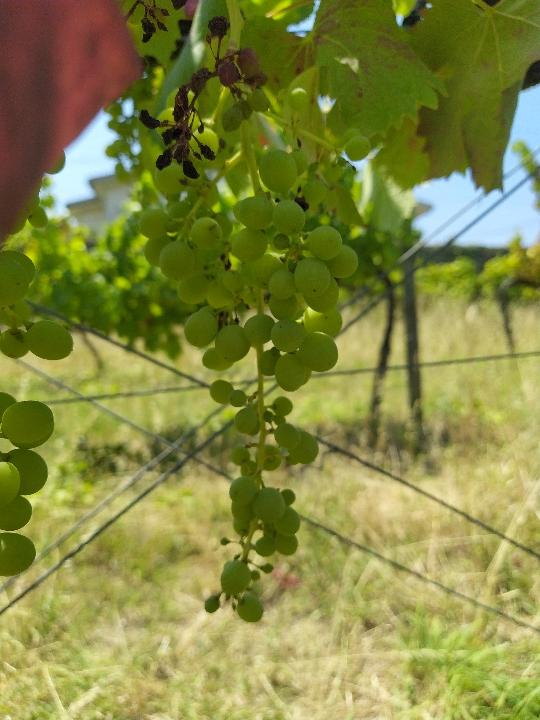grape: (137, 85, 375, 624), (108, 4, 272, 178)
